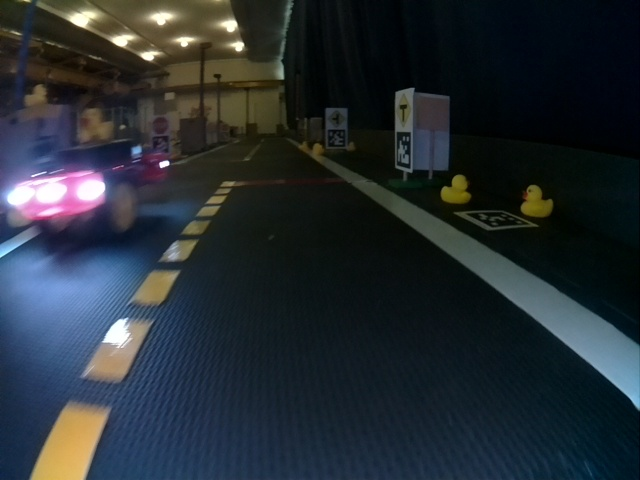Duckie: (78, 109, 113, 142), (521, 186, 553, 216), (440, 175, 470, 203), (24, 84, 47, 107), (313, 144, 322, 153), (347, 142, 356, 150), (301, 142, 309, 150)
Duckiebot: (8, 138, 170, 236)
Intersection sign: (397, 92, 411, 127), (329, 109, 346, 126)
QR code: (456, 211, 537, 230), (395, 130, 411, 169), (326, 130, 344, 147)
Stop sign: (156, 118, 168, 134)
